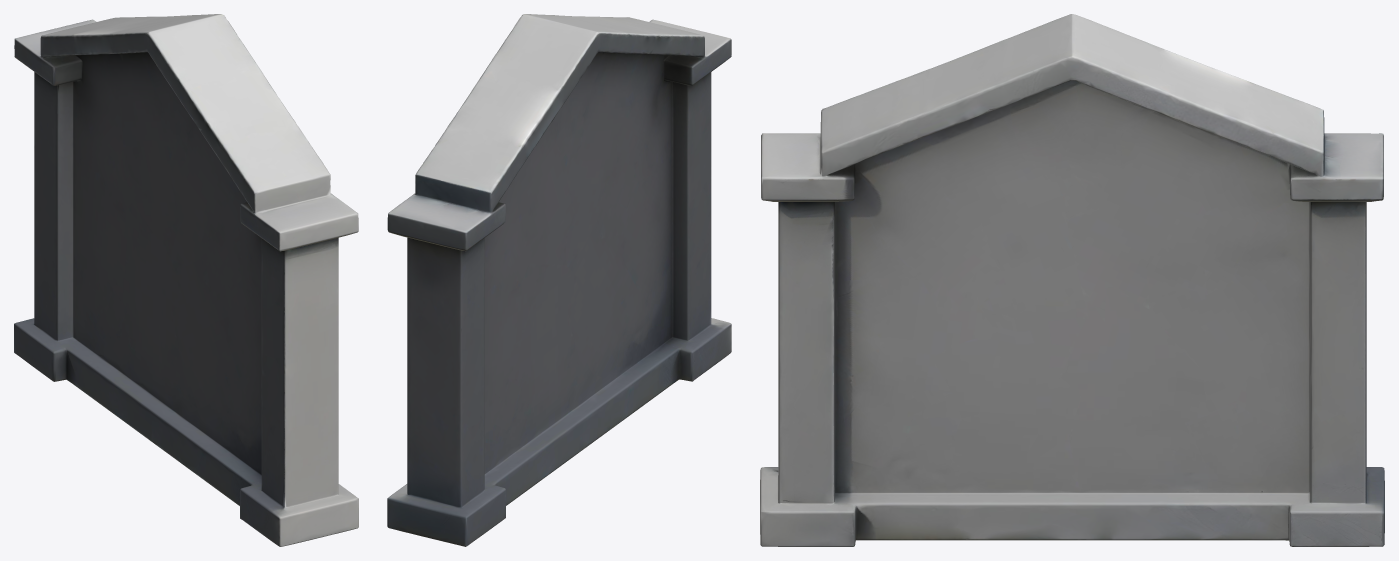
The model's file is wall1.fbx.
3 views of the same model, side by side, from view 1: azimuth 30°, elevation 25°; view 2: azimuth 150°, elevation 25°; view 3: azimuth 270°, elevation 25° (orthographic). The views are drawn at different scales.
Parts seen in each view (by area): view 1: tripo_node_26164c9a; view 2: tripo_node_26164c9a; view 3: tripo_node_26164c9a.
Boxes of the visible parts, x1,y1,x2,y2 form: tripo_node_26164c9a: (14,14,358,546); tripo_node_26164c9a: (387,14,731,546); tripo_node_26164c9a: (760,14,1384,546).
Size of the model in its own units: 0.1733 by 0.8665 by 0.9999.
Materials: 1 (1 with a texture image).
